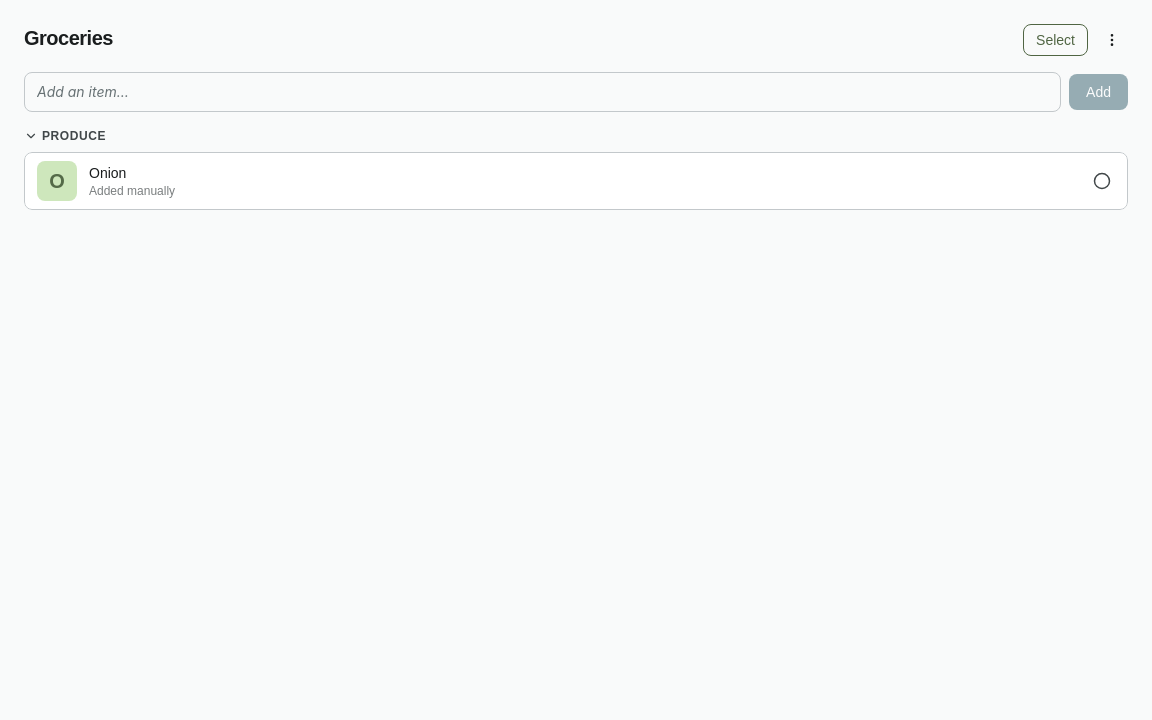
it: ShoppingListPage — the row and the sheet describe a source the same way (#933) › EXCEPTION 3: the EDIT SHEET says the same thing it always did
Click the button with test id "shopping-item-edit-btn".
click(108, 173)  # box x1=89 y1=163 x2=1077 y2=199
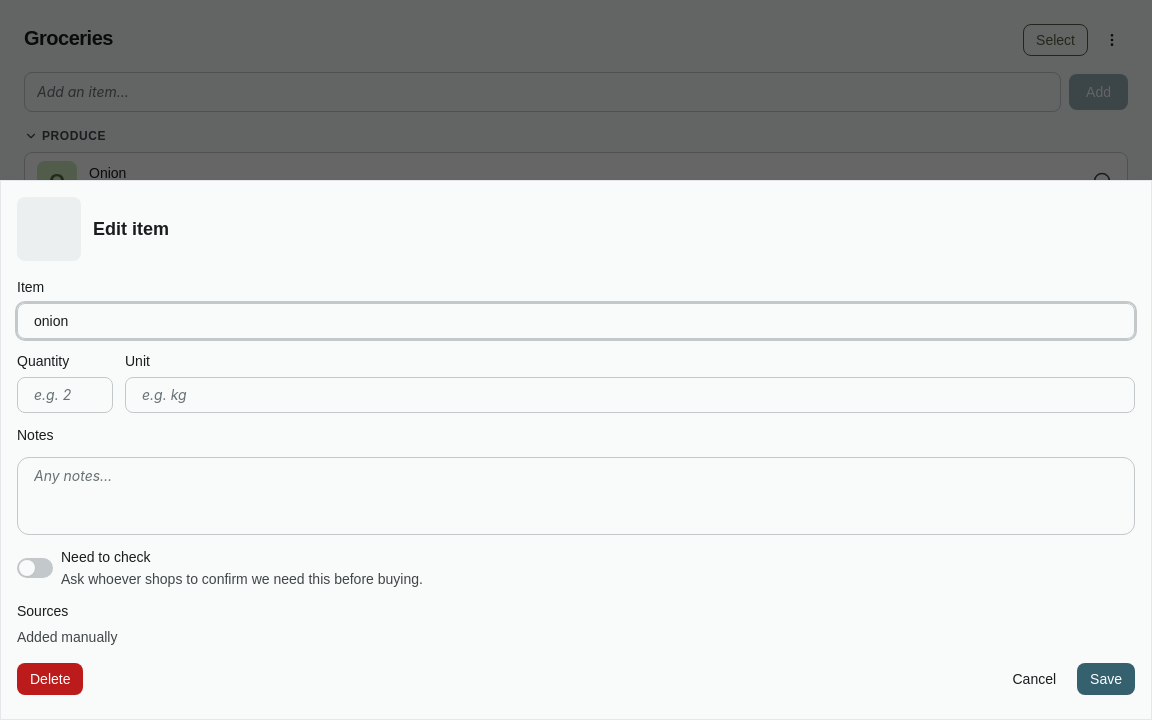
expect the element with test id "shopping-edit-sources" shows "Added manually": met, box x1=17 y1=629 x2=117 y2=645
